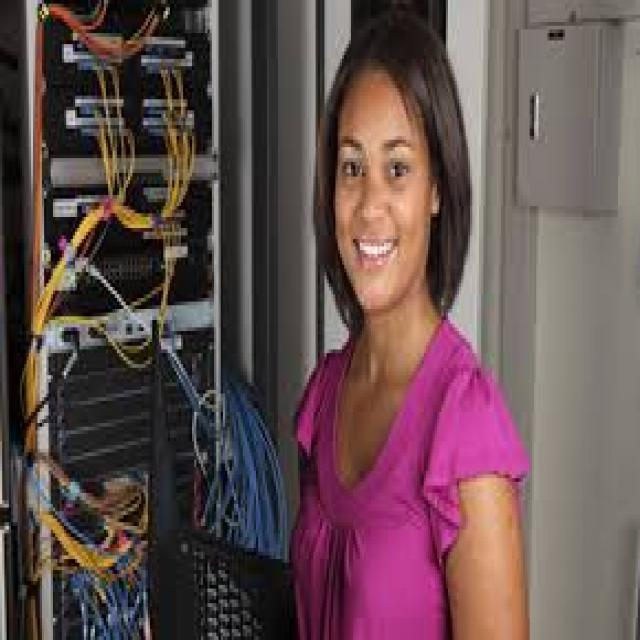No_Goggles: (335, 134, 426, 200)
No_Helmet: (330, 8, 460, 123)
